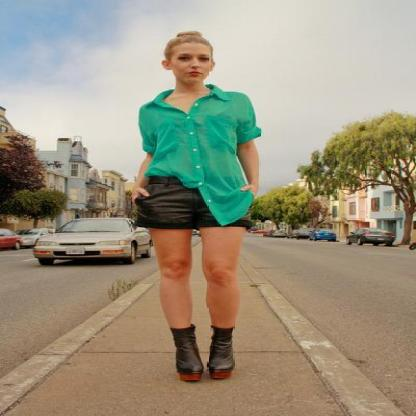shirt: (138, 84, 260, 224)
shoe: (171, 324, 233, 382)
shorts: (130, 175, 262, 230)
